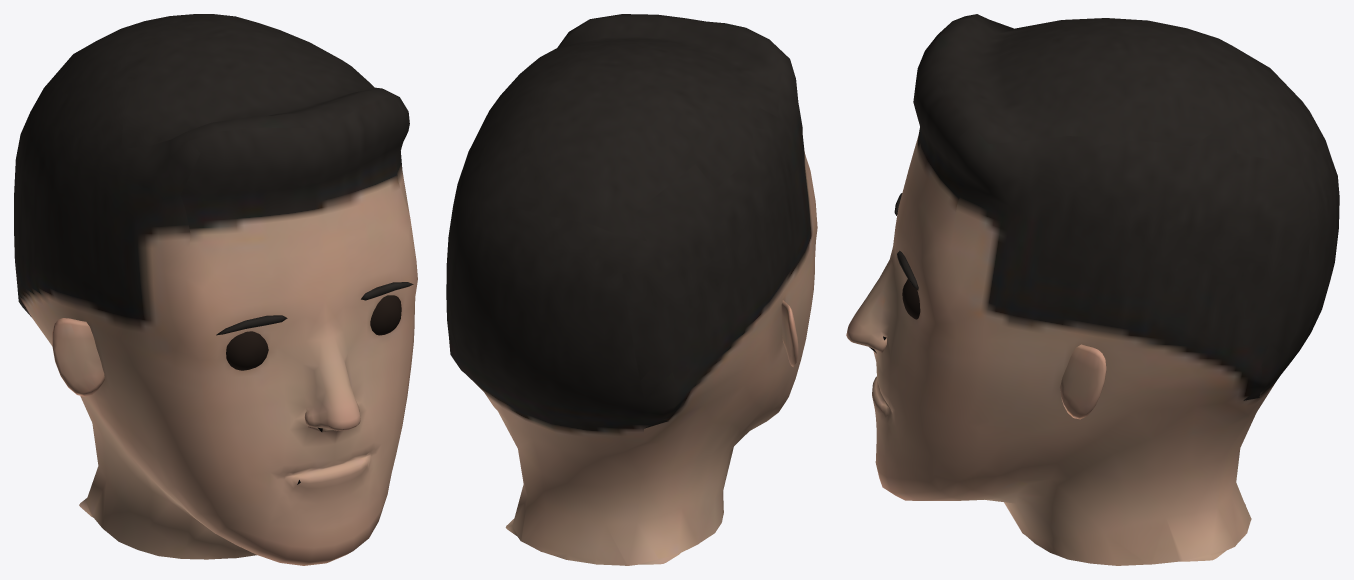
Rendered from PH_NPC__StudentMan_Head.fbx.
The picture shows the model from 3 angles, left to right: view 1: azimuth 30°, elevation 25°; view 2: azimuth 150°, elevation 25°; view 3: azimuth 270°, elevation 25°; orthographic projection. The views are drawn at different scales.
Visible parts, largest first — view 1: PH_NPC__StudentMan_Head; view 2: PH_NPC__StudentMan_Head; view 3: PH_NPC__StudentMan_Head.
Boxes of the visible parts, x1,y1,x2,y2 form: PH_NPC__StudentMan_Head: (14, 14, 417, 565); PH_NPC__StudentMan_Head: (446, 14, 817, 565); PH_NPC__StudentMan_Head: (846, 14, 1339, 565).
Bounding box in the file's own units: 0.1949 × 0.2636 × 0.2447.
